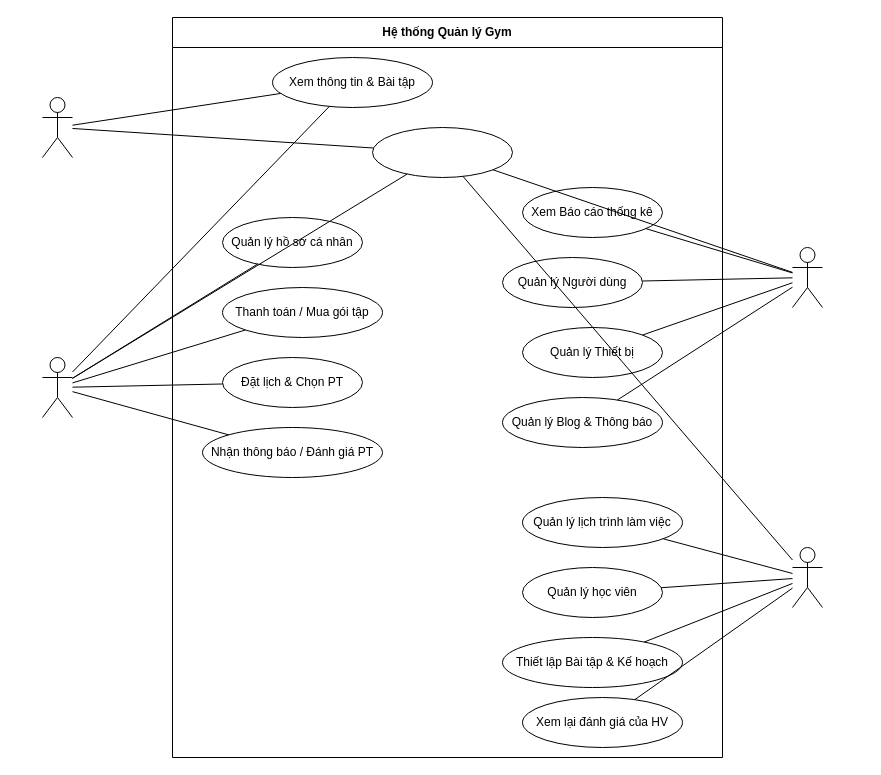
Some shapes in this 881 by 775 pixel diagram are drawn without their labels. The shapes that lost their labels are listed below. From the top down, each one's centre as x and y in pixels, then its label:
pixel 57 127: Khách truy cập
pixel 442 152: Đăng ký / Đăng nhập
pixel 807 277: Quản trị viên
pixel 57 387: Học viên
pixel 807 577: Huấn luyện viên (PT)
